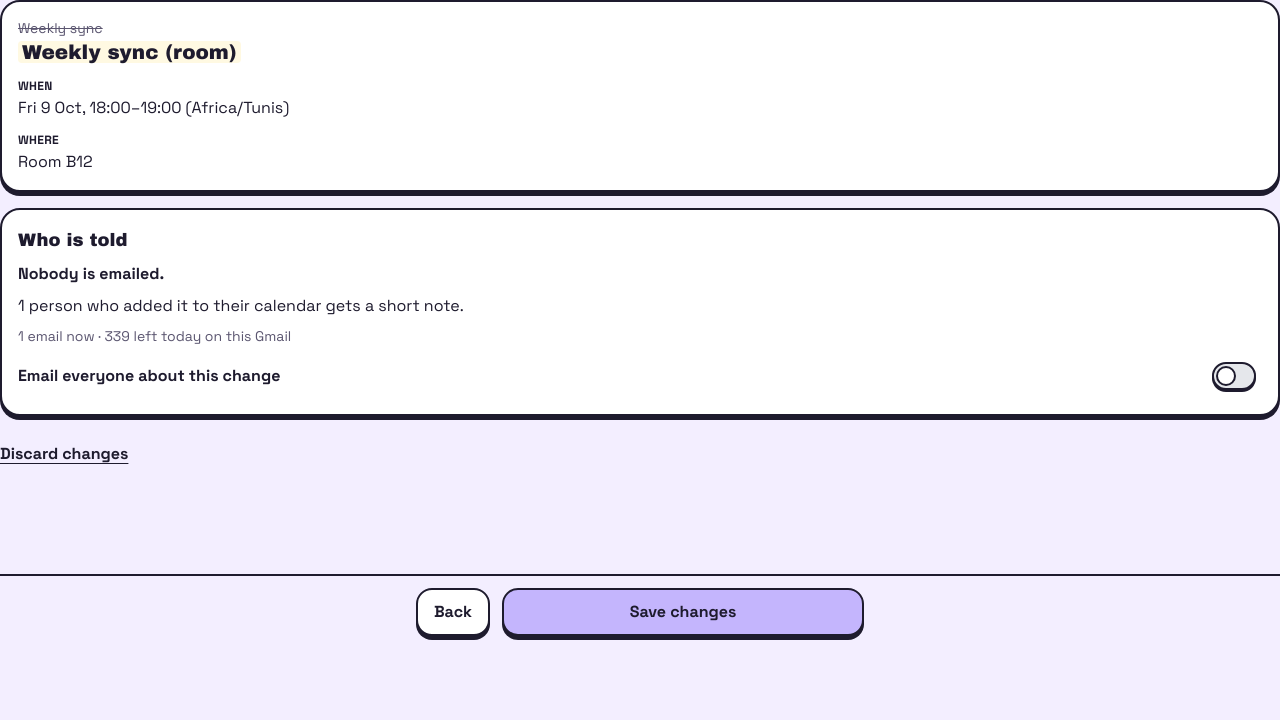
ChangesStep › names the calendar note in the confirm when only calendars change (review)
Click the button "Save changes".
click(683, 612)  # box [502, 588, 864, 636]
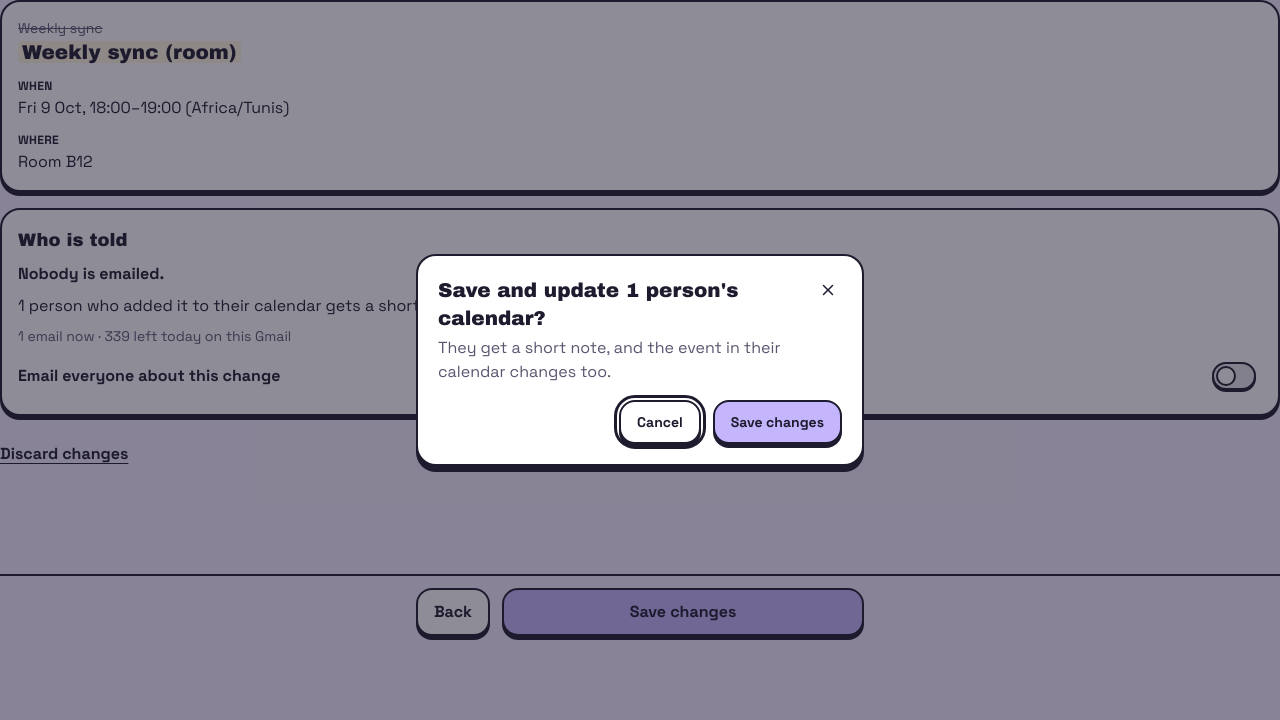
Expected: the heading "Save and update 1 person's calendar?" is shown, [438, 279, 738, 329]
Expected: the text "They get a short note, and the event in their calendar changes too." is shown, [438, 336, 802, 384]
